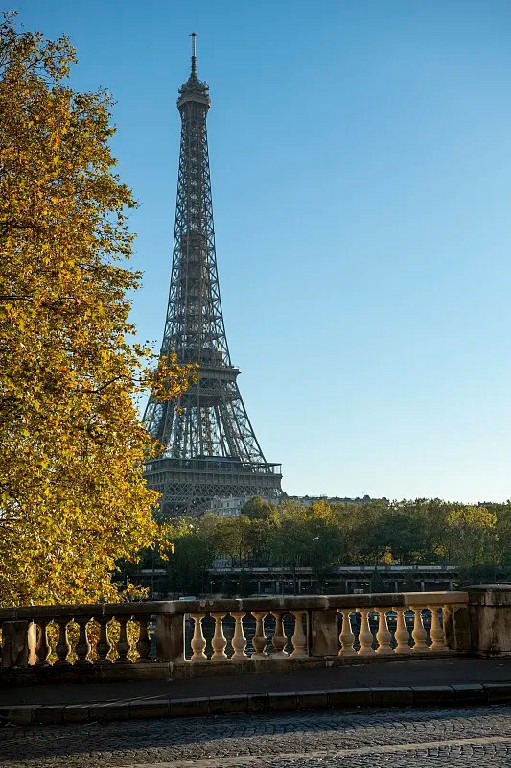Eiffel: (130, 33, 285, 529)
